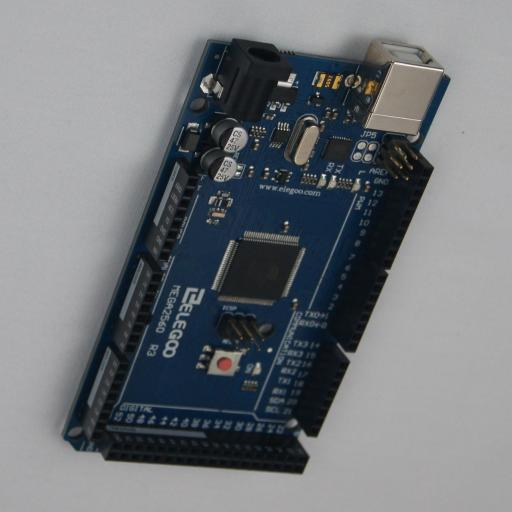Arduino Mega 2560 -Blue-: (61, 38, 450, 474)
